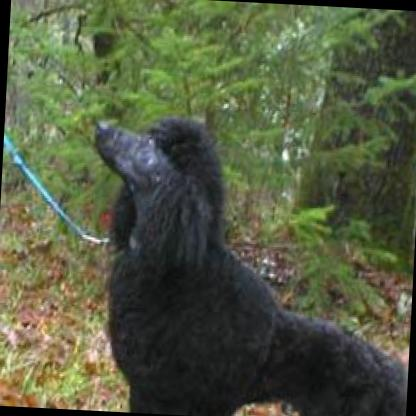standard_poodle: (82, 111, 416, 416)
